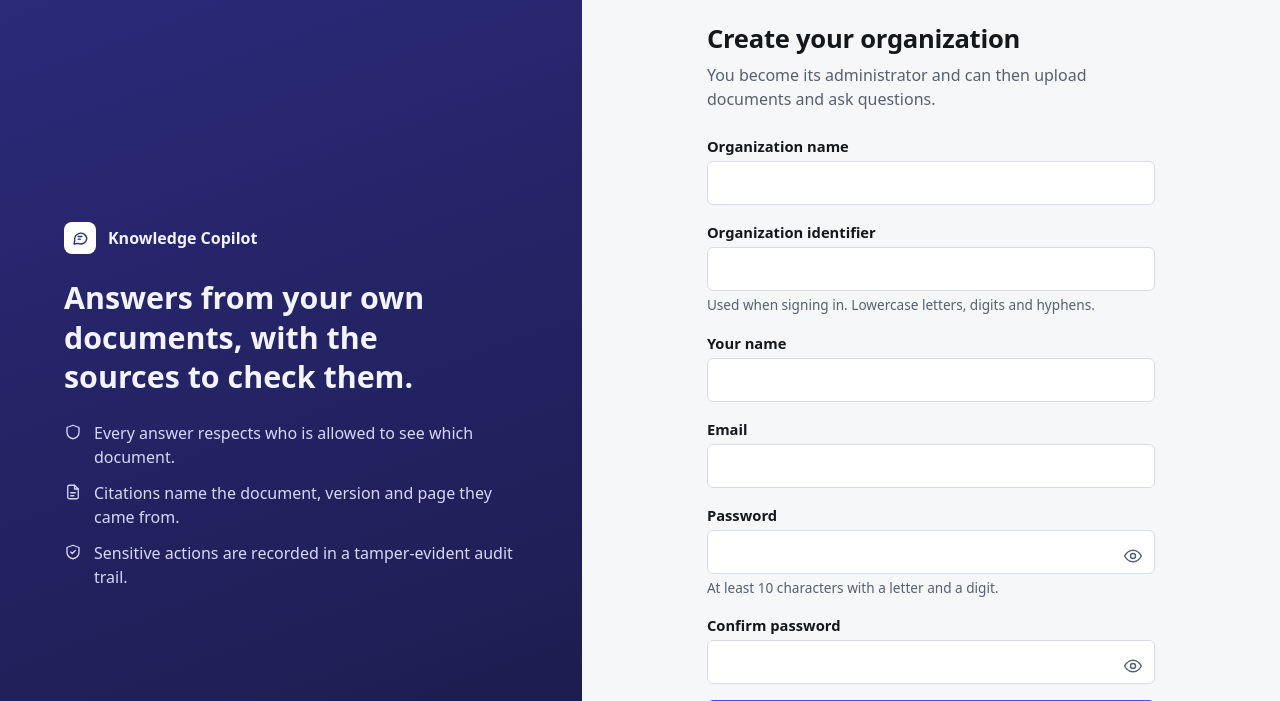
Test: signup › suggests an identifier, creates the organization and lands signed in
In the field labelled "Organization name": (931, 183) left=707, top=161, right=1155, bottom=205, type "Acme Inc"
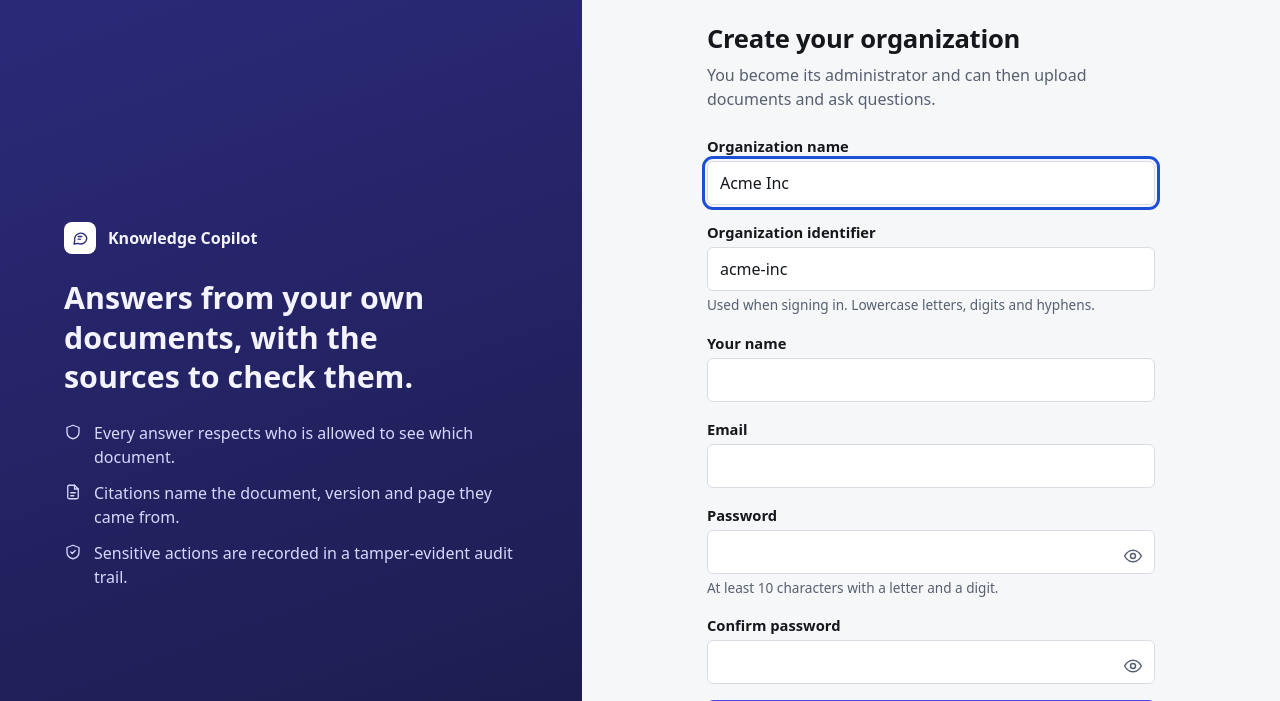
In the field labelled "Your name": (931, 380) left=707, top=358, right=1155, bottom=402, type "Ada Lovelace"
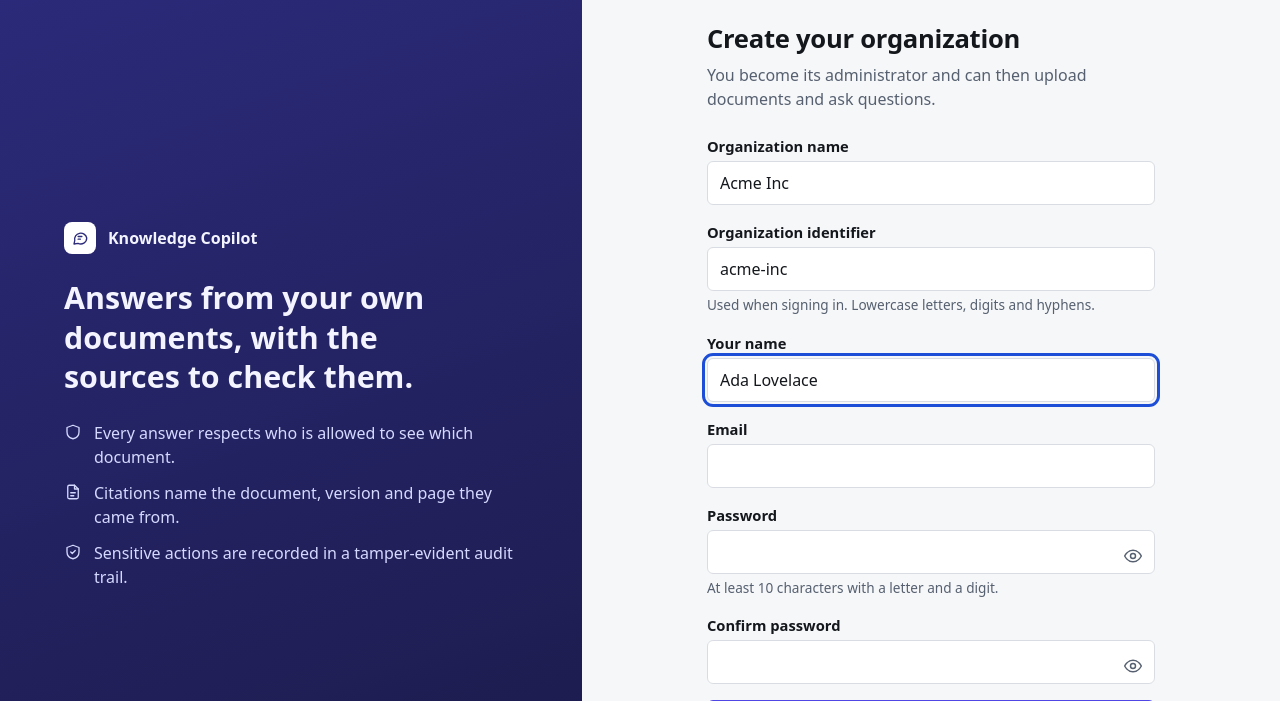
In the field labelled "Email": (931, 466) left=707, top=444, right=1155, bottom=488, type "ada@example.com"
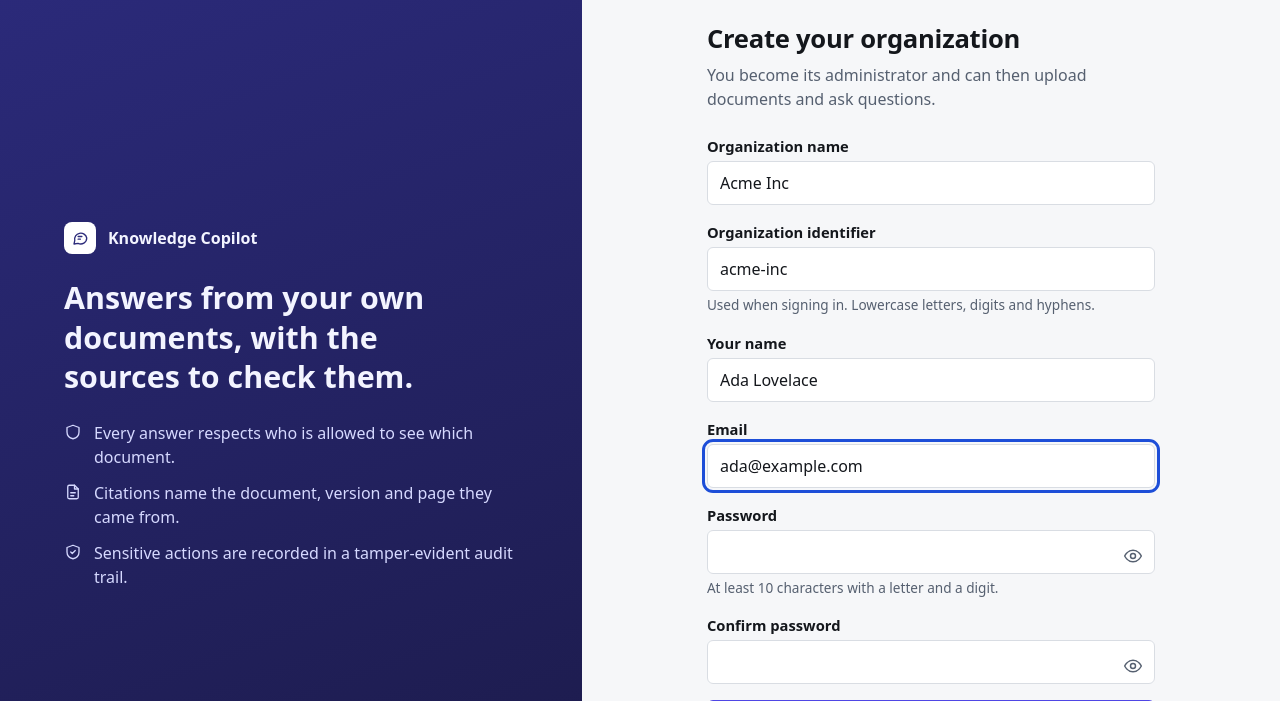
In the password field labelled "Password": (931, 552) left=707, top=530, right=1155, bottom=574, type "correct-horse-battery-9"
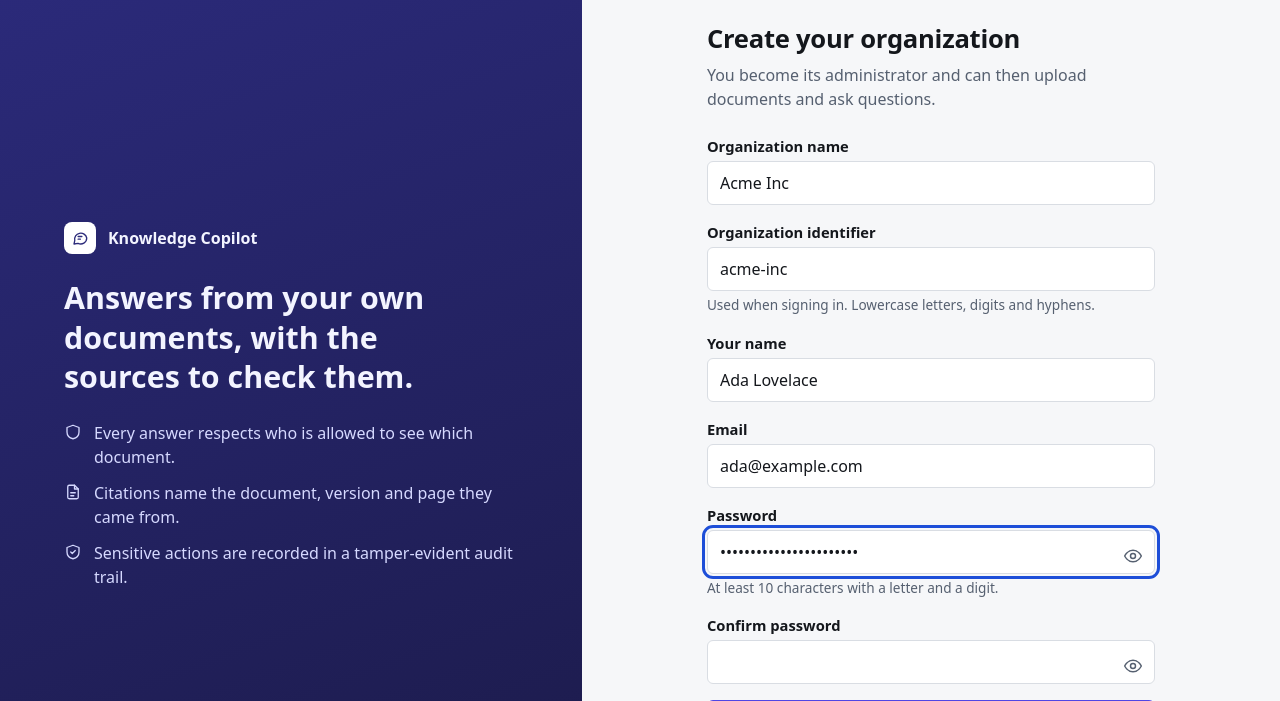
In the password field labelled "Confirm password": (931, 662) left=707, top=640, right=1155, bottom=684, type "correct-horse-battery-9"
(page scrolled)
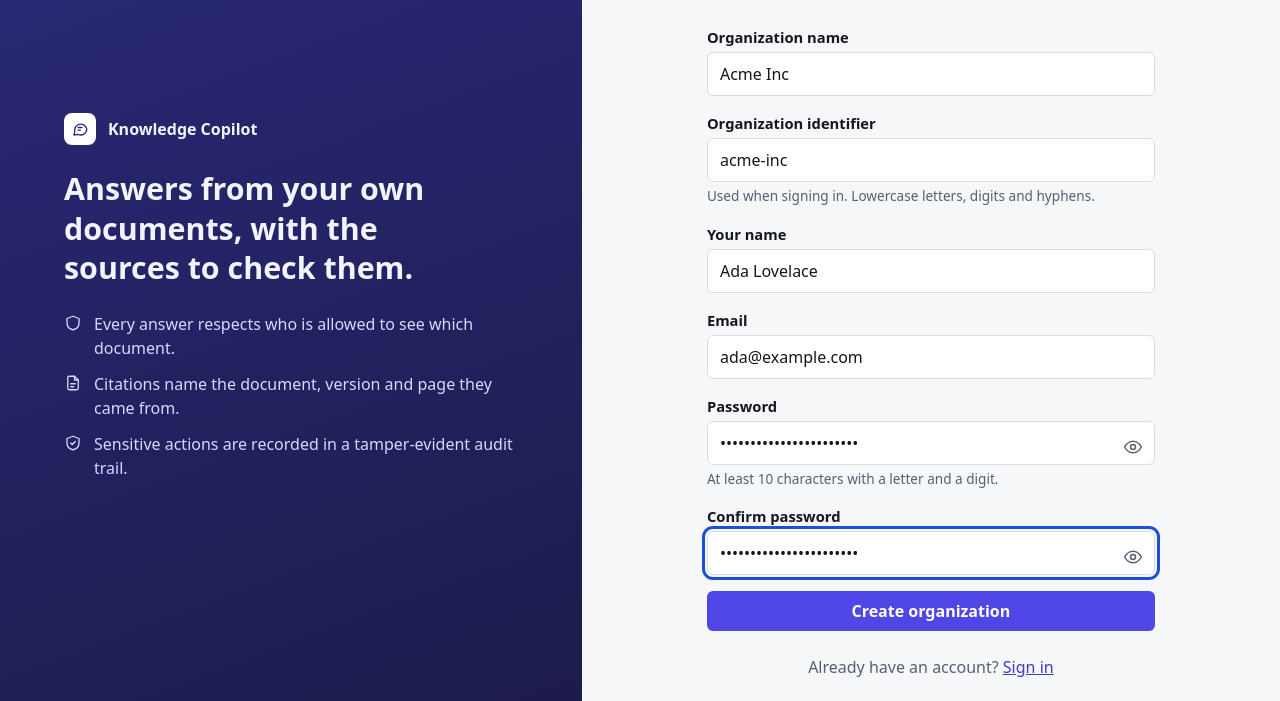
Result: the field labelled "Organization identifier" holds "acme-inc" at left=707, top=138, right=1155, bottom=182
Click the button "Create organization": (931, 611) left=707, top=591, right=1155, bottom=631
(page scrolled)
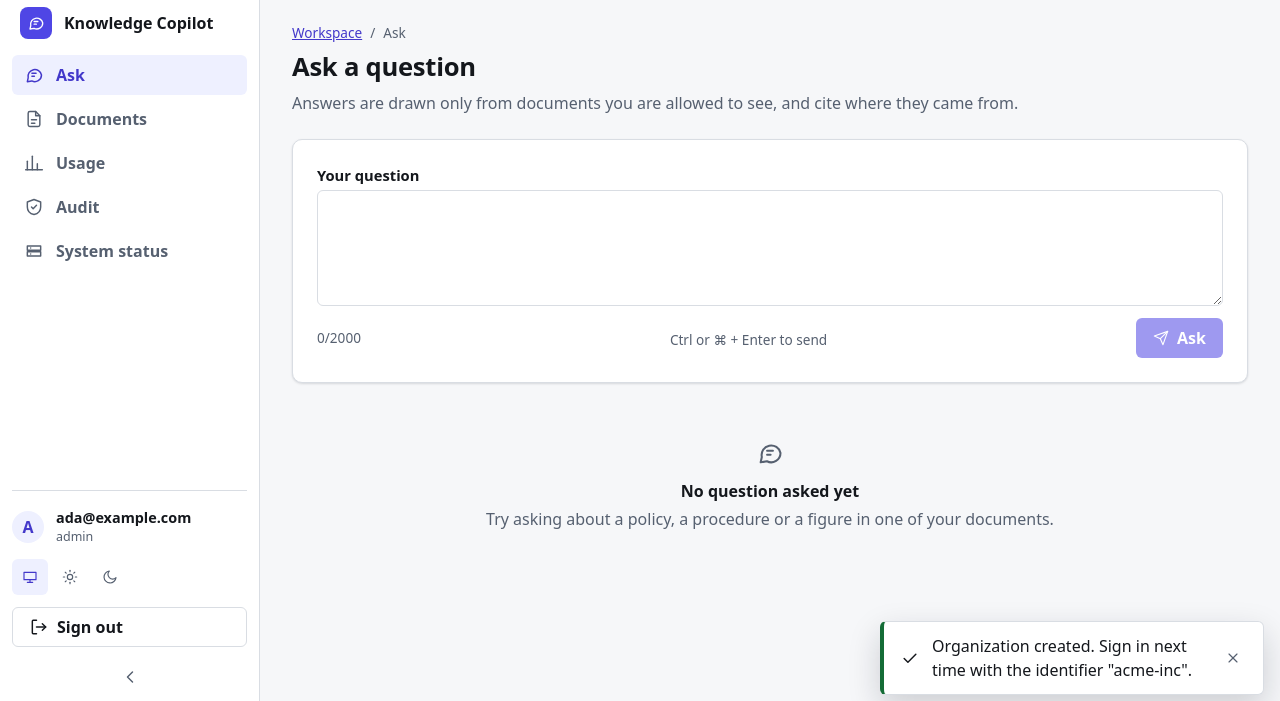
Result: the heading "Ask a question" is shown at left=292, top=49, right=476, bottom=84
Result: the text "Sign in next time with the identifier \"acme-inc\"" is shown at left=932, top=635, right=1192, bottom=681
